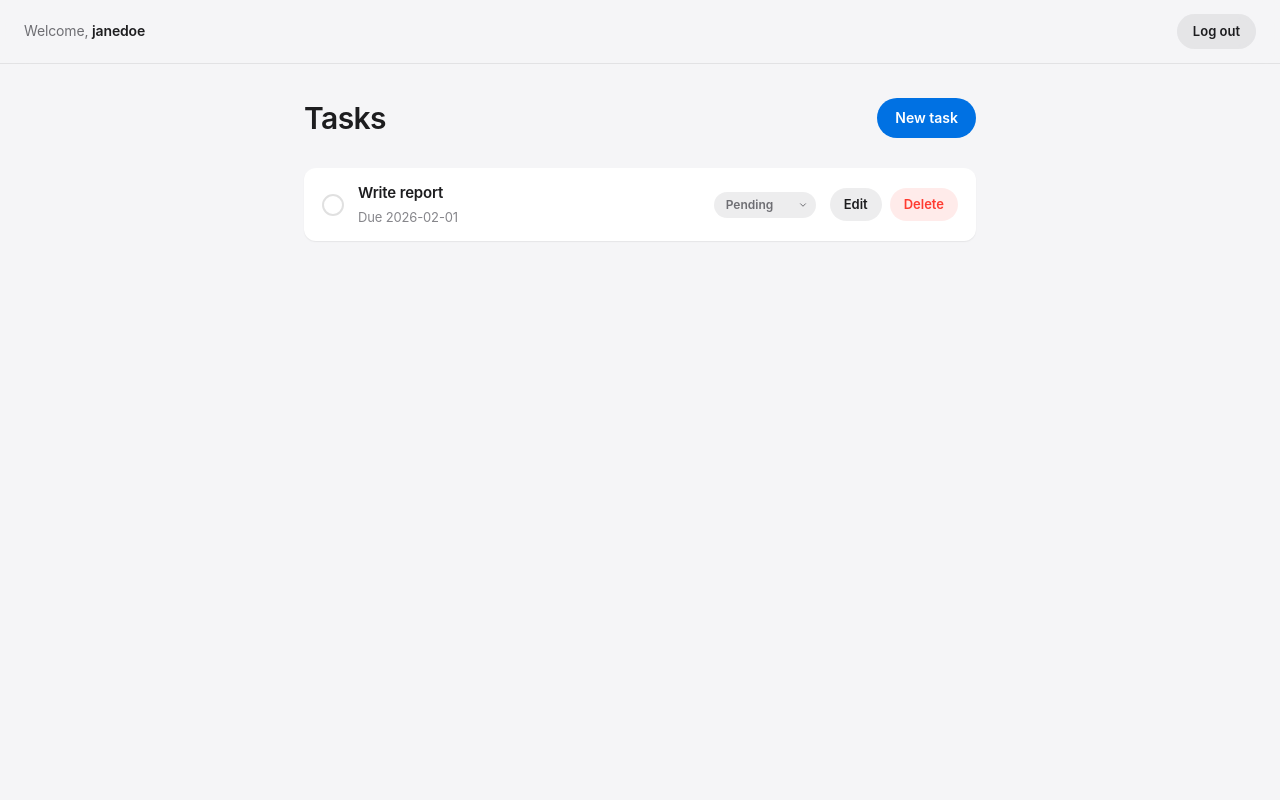
Test: TasksPage › edits a task via the Edit modal and updates it in the list
Expected: the text "Write report" is shown, [358,183,443,202]
Click the button "Edit" at [856, 205], box [830,188,882,221]
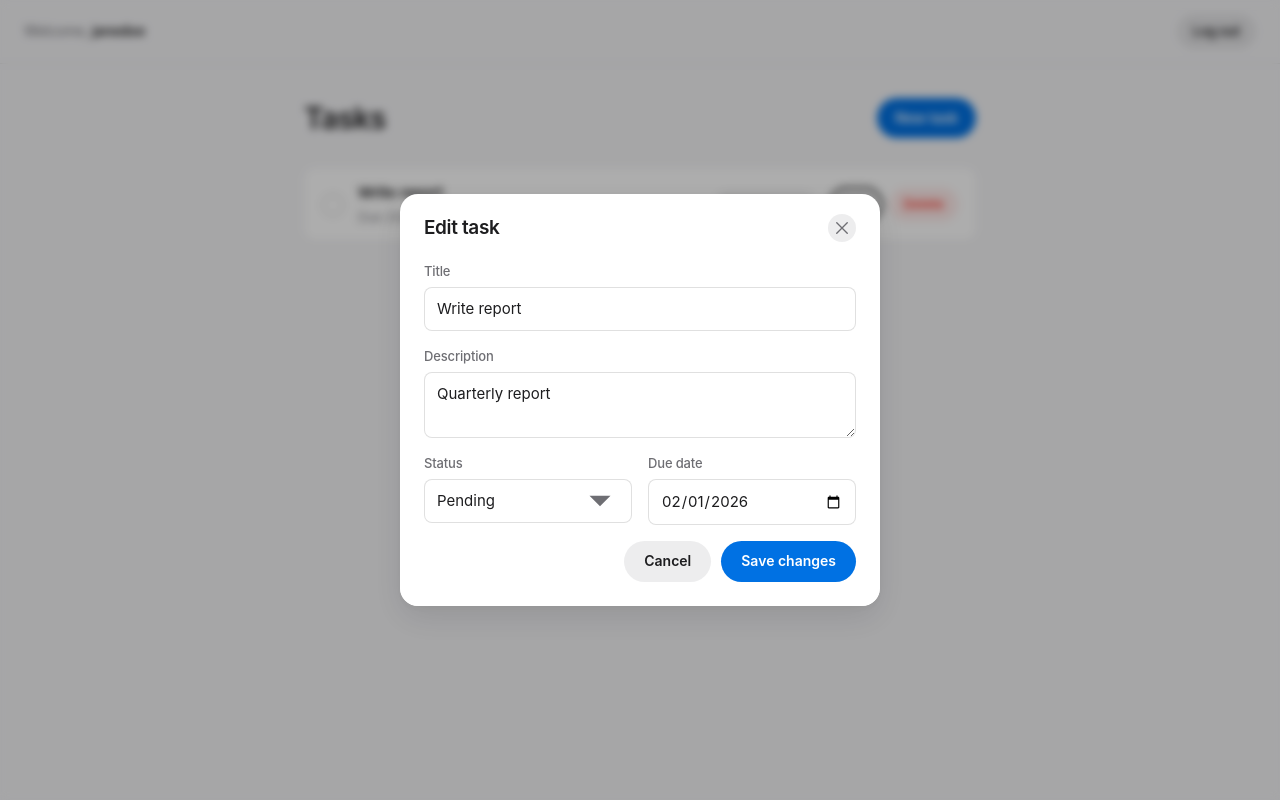
Replace the text in the field labelled "Title" with "Write final report" at [640, 309], box [424,287,856,331]
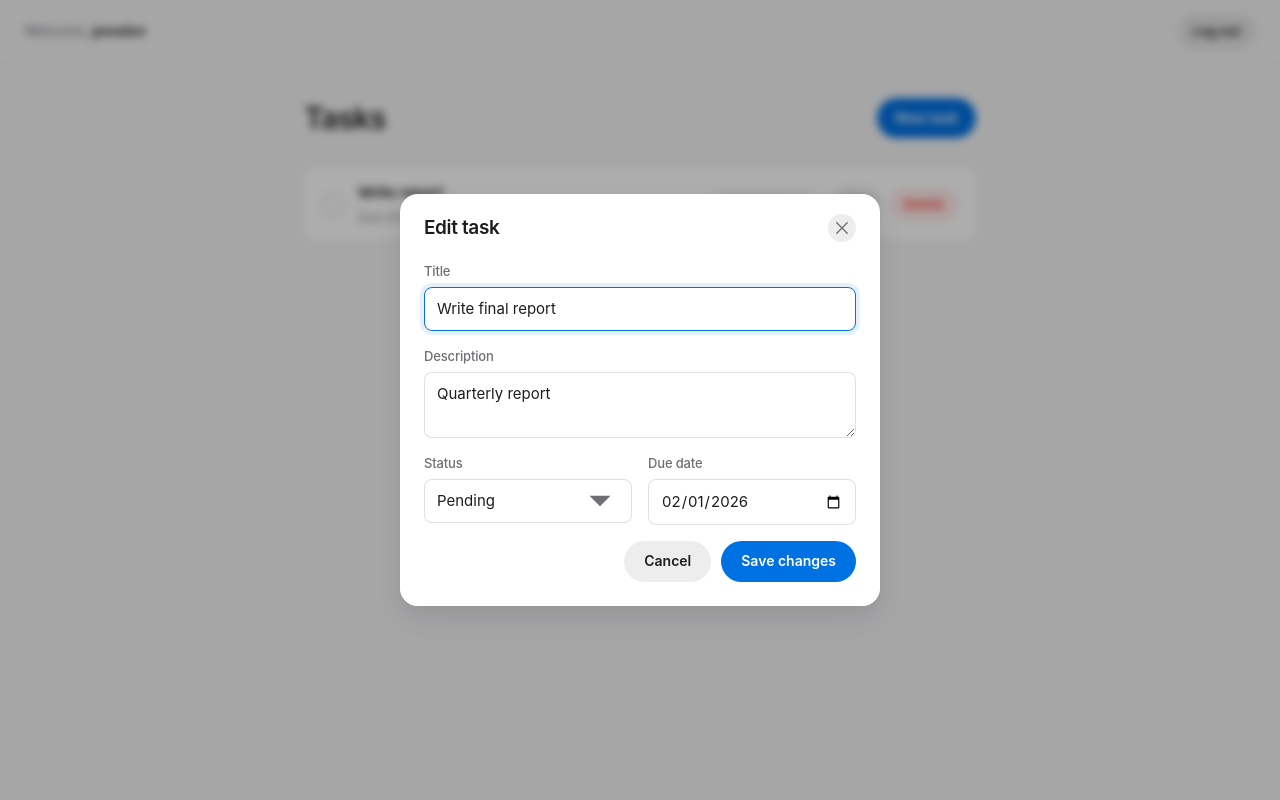
Click the button "Save changes" at [789, 562], box [721,542,856,582]
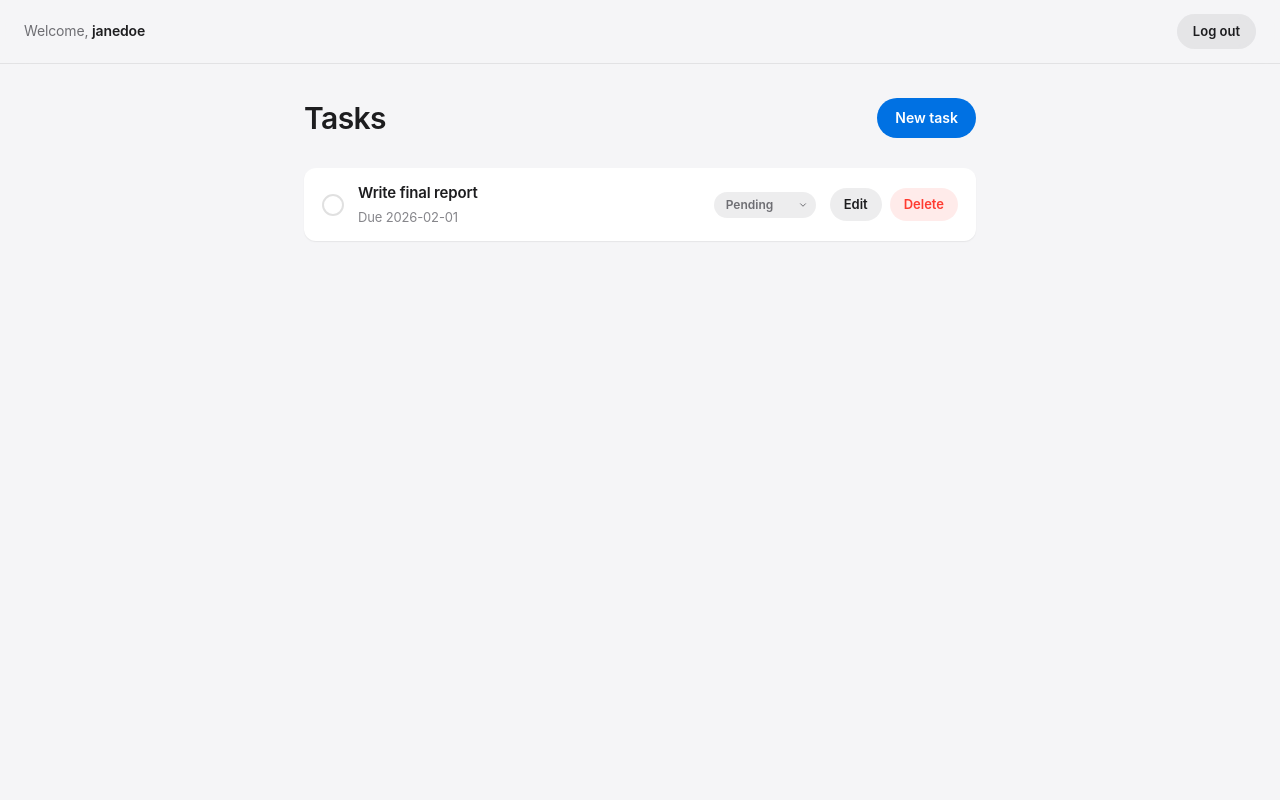
Now the text "Write final report" is shown, box [358,183,478,202]
